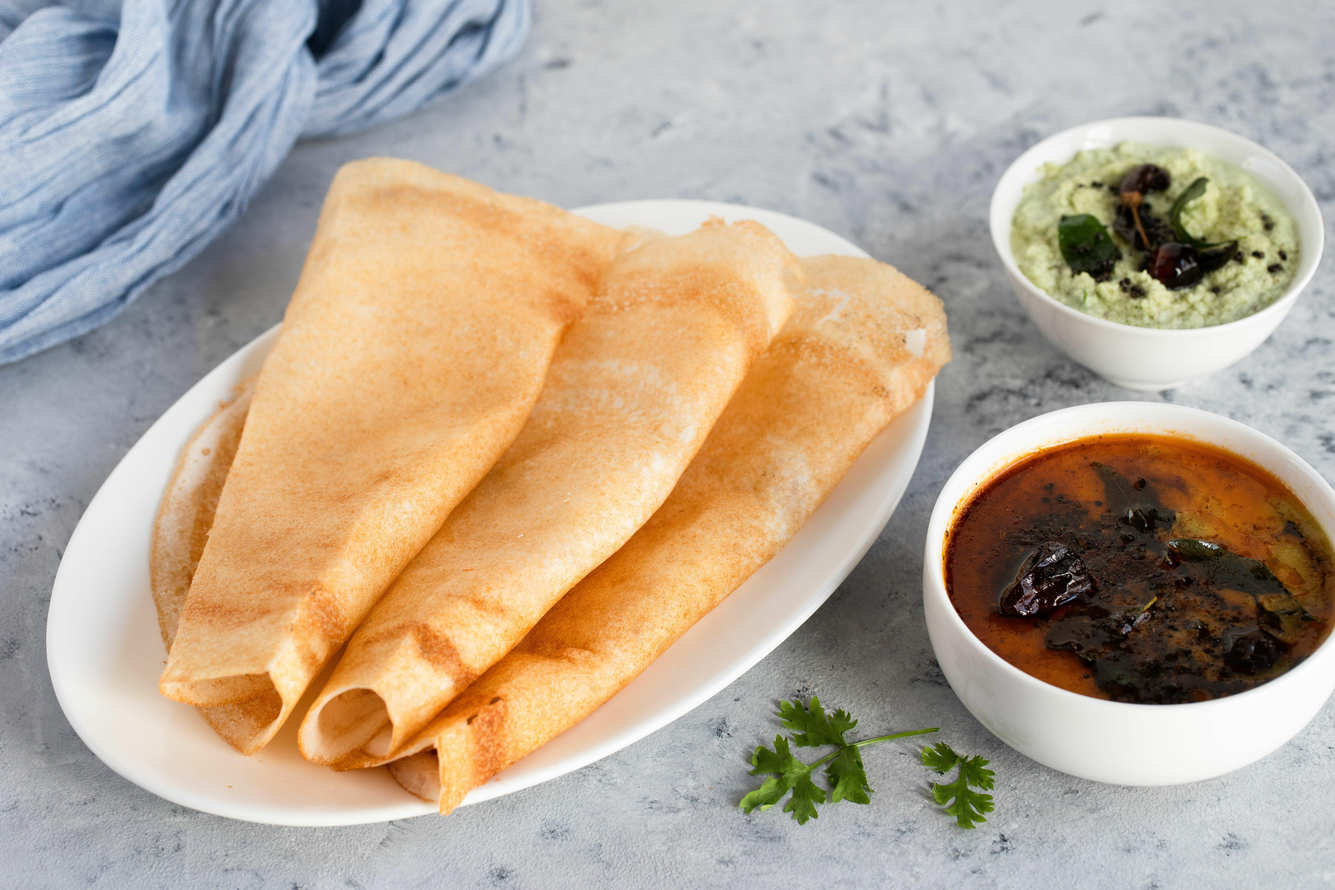CoconutChutney: (1008, 139, 1297, 327)
Dosa: (377, 255, 950, 812), (155, 154, 626, 762), (300, 215, 796, 774)
